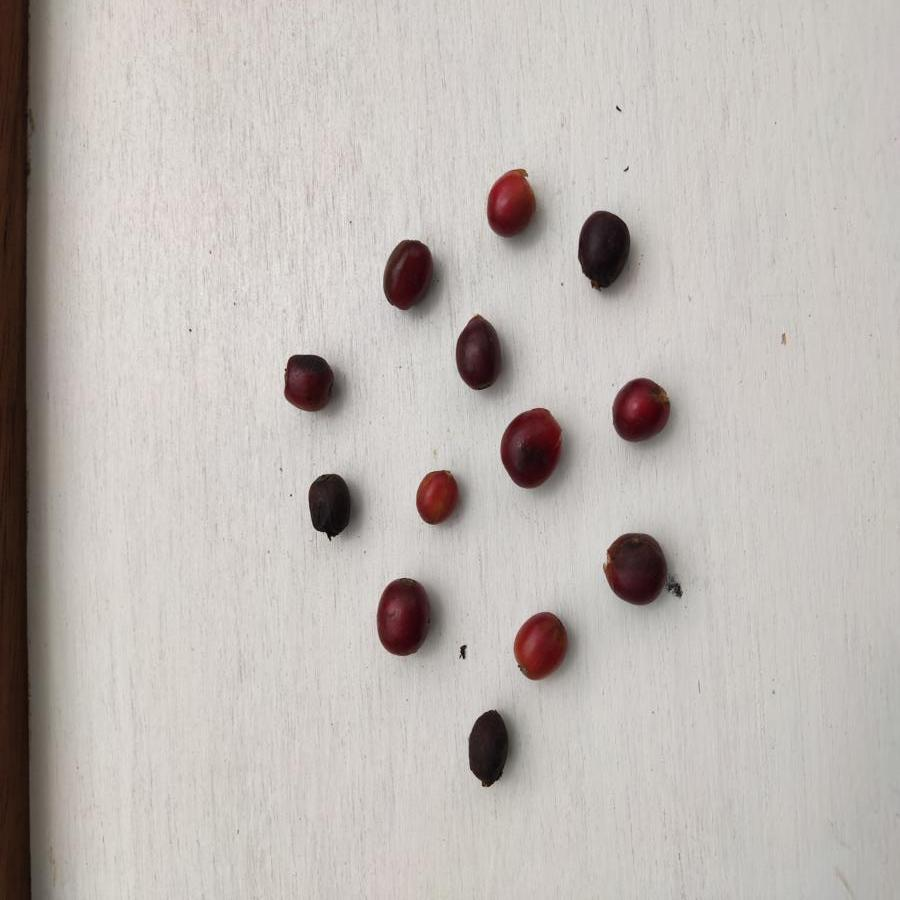Maduro: (511, 612, 570, 682), (485, 167, 533, 240), (415, 469, 459, 524)
Sobremaduro: (499, 408, 562, 490), (603, 531, 668, 606), (378, 576, 431, 658), (578, 210, 631, 289), (610, 377, 668, 445), (462, 707, 510, 785), (454, 314, 502, 390), (383, 235, 432, 308), (281, 353, 335, 412), (307, 472, 349, 538)
